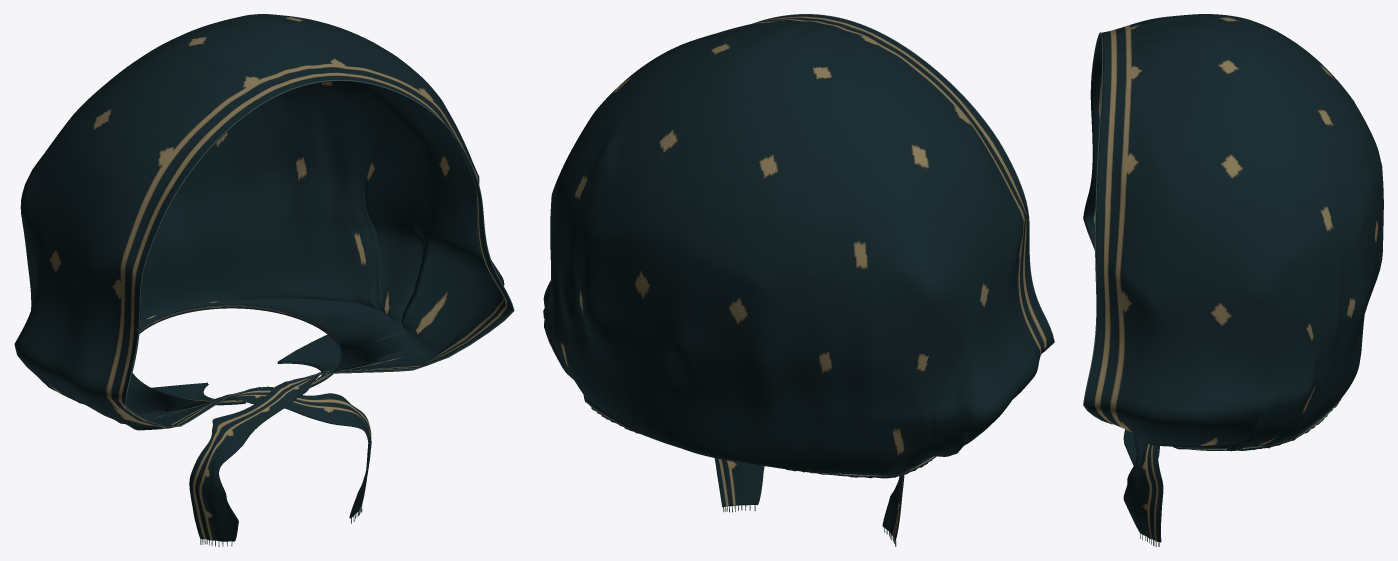
File: Feminine-curls-bandeau-pashmina249-headgear.glb
3 views of the same model, side by side, from view 1: azimuth 30°, elevation 25°; view 2: azimuth 150°, elevation 25°; view 3: azimuth 270°, elevation 25° (orthographic). The views are drawn at different scales.
Visible parts, largest first — view 1: 226 headgear / Headwear / continuous woven pashmina239, 226 headgear / Headwear / face edge239; view 2: 226 headgear / Headwear / continuous woven pashmina239, 226 headgear / Headwear / face edge239; view 3: 226 headgear / Headwear / continuous woven pashmina239, 226 headgear / Headwear / face edge239.
Part boxes in pixels (<box>): 226 headgear / Headwear / continuous woven pashmina239: <box>14,14,513,541</box>; 226 headgear / Headwear / face edge239: <box>125,80,514,426</box>; 226 headgear / Headwear / continuous woven pashmina239: <box>543,14,1053,540</box>; 226 headgear / Headwear / face edge239: <box>753,14,1054,353</box>; 226 headgear / Headwear / continuous woven pashmina239: <box>1083,14,1383,542</box>; 226 headgear / Headwear / face edge239: <box>1083,32,1112,424</box>.
Size of the model in its own units: 1.35 by 1.41 by 0.8049.
3 materials, 1 textured.
